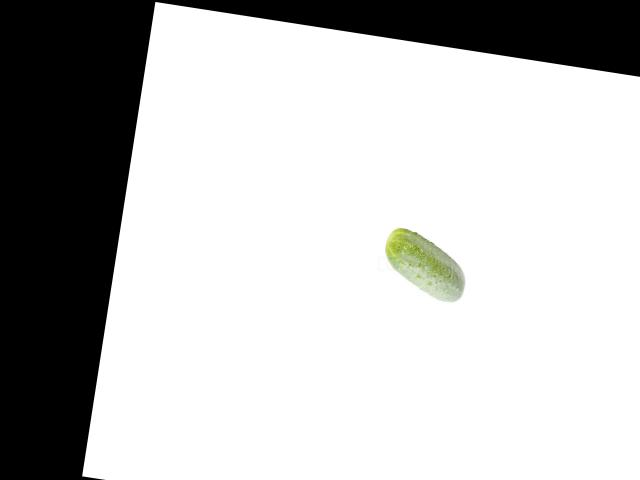cucumber: (378, 226, 472, 304)
